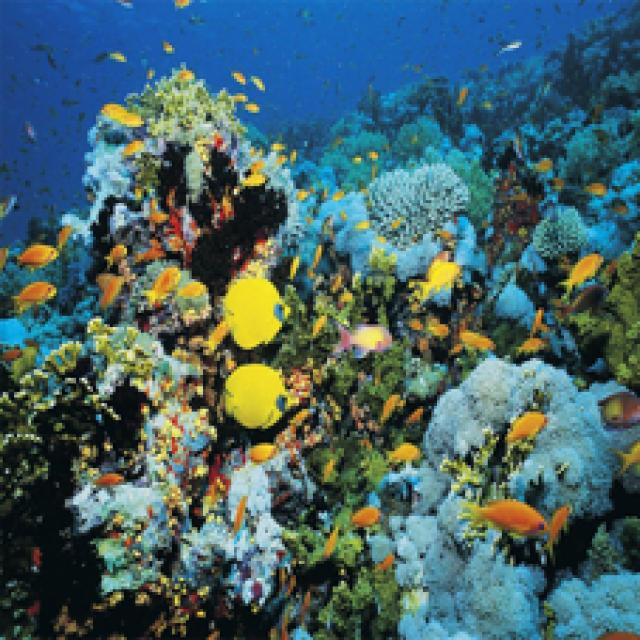Bleached: (181, 469, 283, 604), (322, 196, 438, 280), (71, 483, 162, 531)
Healthy: (66, 69, 286, 280), (424, 359, 638, 514), (370, 497, 542, 638), (368, 165, 469, 246), (548, 573, 638, 635)
